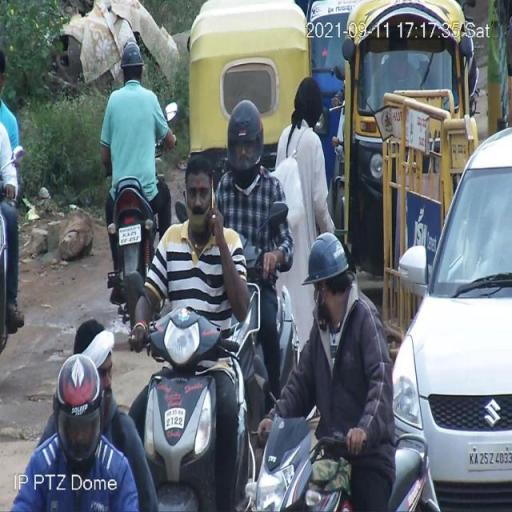using mobile: (208, 170, 227, 235)
